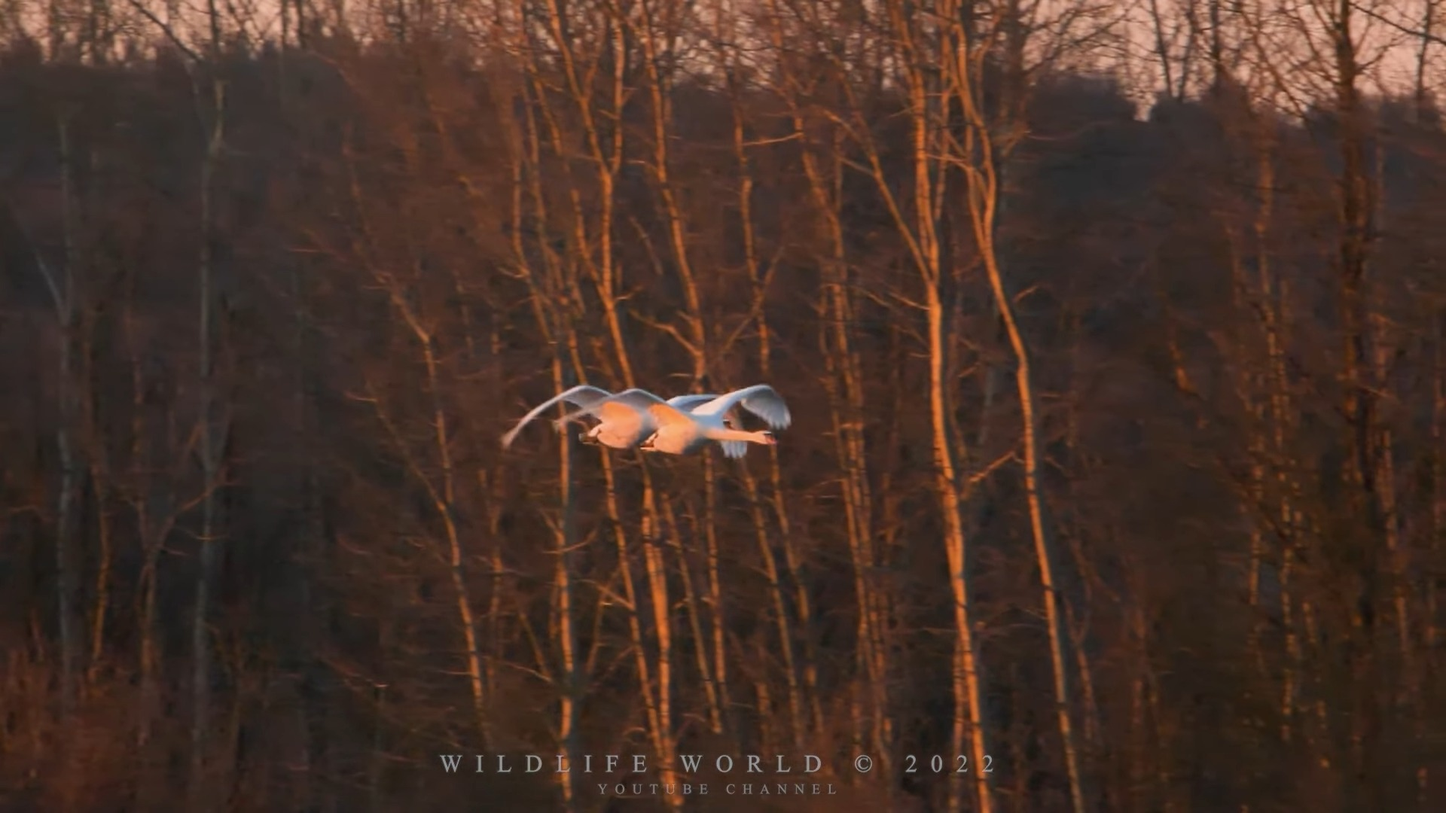not_drone: (507, 379, 751, 461), (614, 388, 792, 462)
